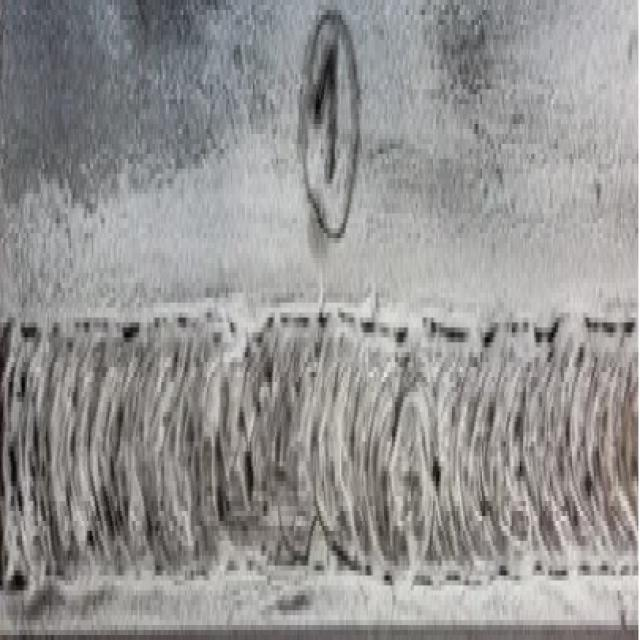Good Welding: (0, 298, 637, 580)
